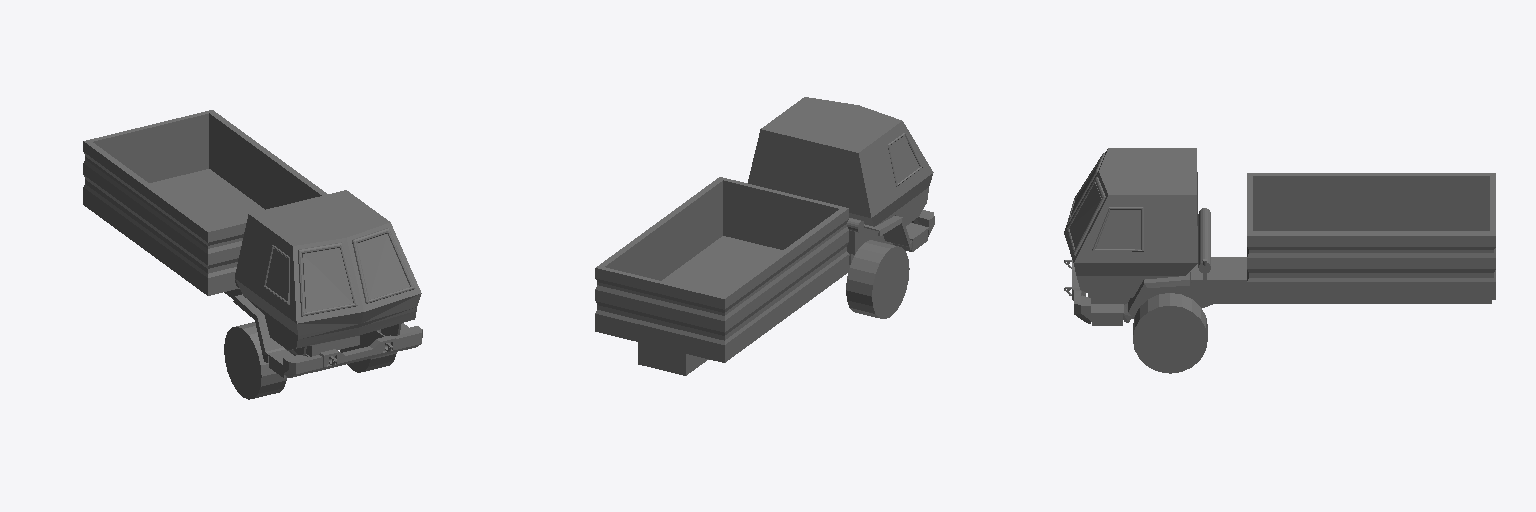
File: FMTV.obj
3 renders of one model, left to right at view 1: azimuth 30°, elevation 25°; view 2: azimuth 150°, elevation 25°; view 3: azimuth 270°, elevation 25°, orthographic.
Visible parts, largest first — view 1: Body; view 2: Body; view 3: Body.
Boxes of the visible parts, <box> form: Body: <box>83,110,422,399</box>; Body: <box>595,97,934,375</box>; Body: <box>1064,148,1495,373</box>.
Bounding box in the file's own units: 5.22 × 6.2 × 14.36.